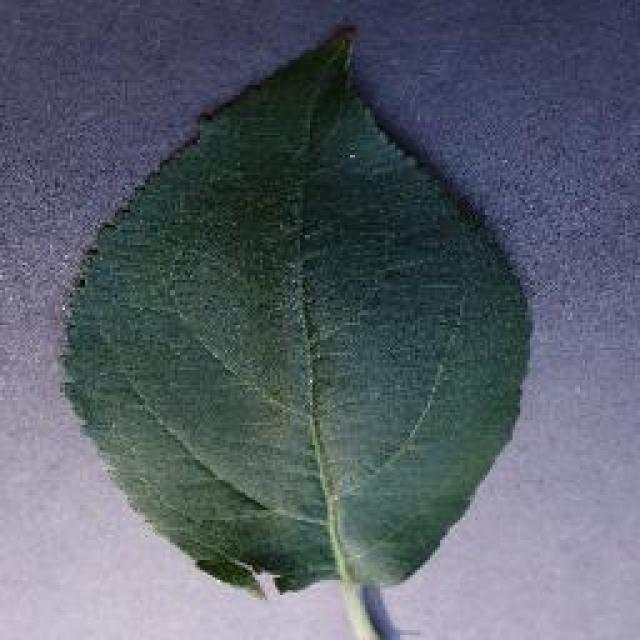apple healthy: (55, 22, 535, 602)
